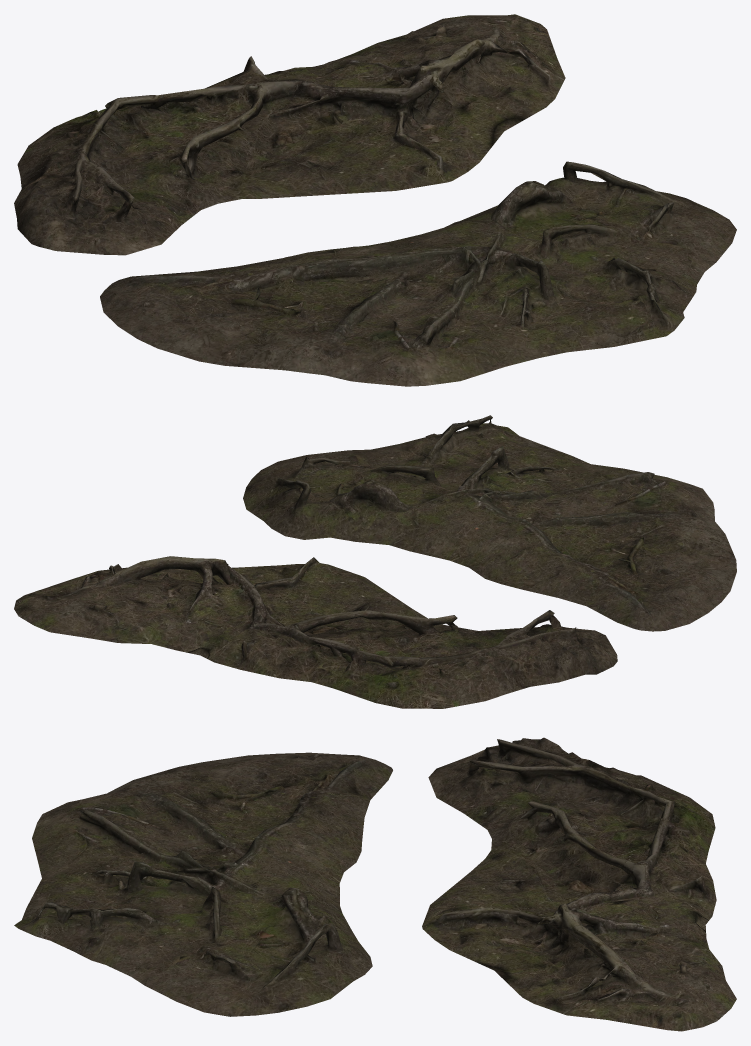
The model's file is pine_roots.glb.
3 renders of one model, top to bottom at view 1: azimuth 30°, elevation 25°; view 2: azimuth 150°, elevation 25°; view 3: azimuth 270°, elevation 25°, orthographic. The views are drawn at different scales.
Parts seen in each view (by area): view 1: pine_roots_b, pine_roots_a; view 2: pine_roots_b, pine_roots_a; view 3: pine_roots_b, pine_roots_a.
Boxes of the visible parts, x1,y1,x2,y2 form: pine_roots_b: (100, 161, 736, 386); pine_roots_a: (14, 14, 565, 255); pine_roots_b: (243, 415, 736, 631); pine_roots_a: (14, 556, 617, 708); pine_roots_b: (14, 752, 392, 1016); pine_roots_a: (422, 737, 736, 1031).
Bounding box in the file's own units: 1.77 × 0.1537 × 1.89.
2 materials, 2 textured.
